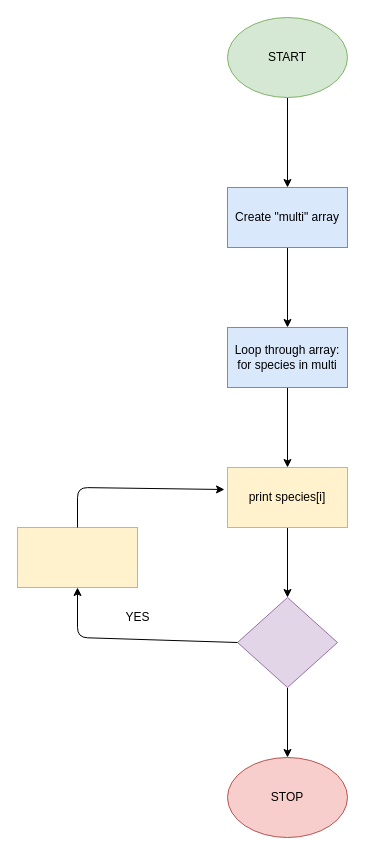
Image size: 365x855. Some labels were removed from this diagram. The centre of each missing label's shape, as x and y in pixels:
"Has last item been reached?" belongs at point (287, 642).
"i = i + 1" belongs at point (77, 557).
